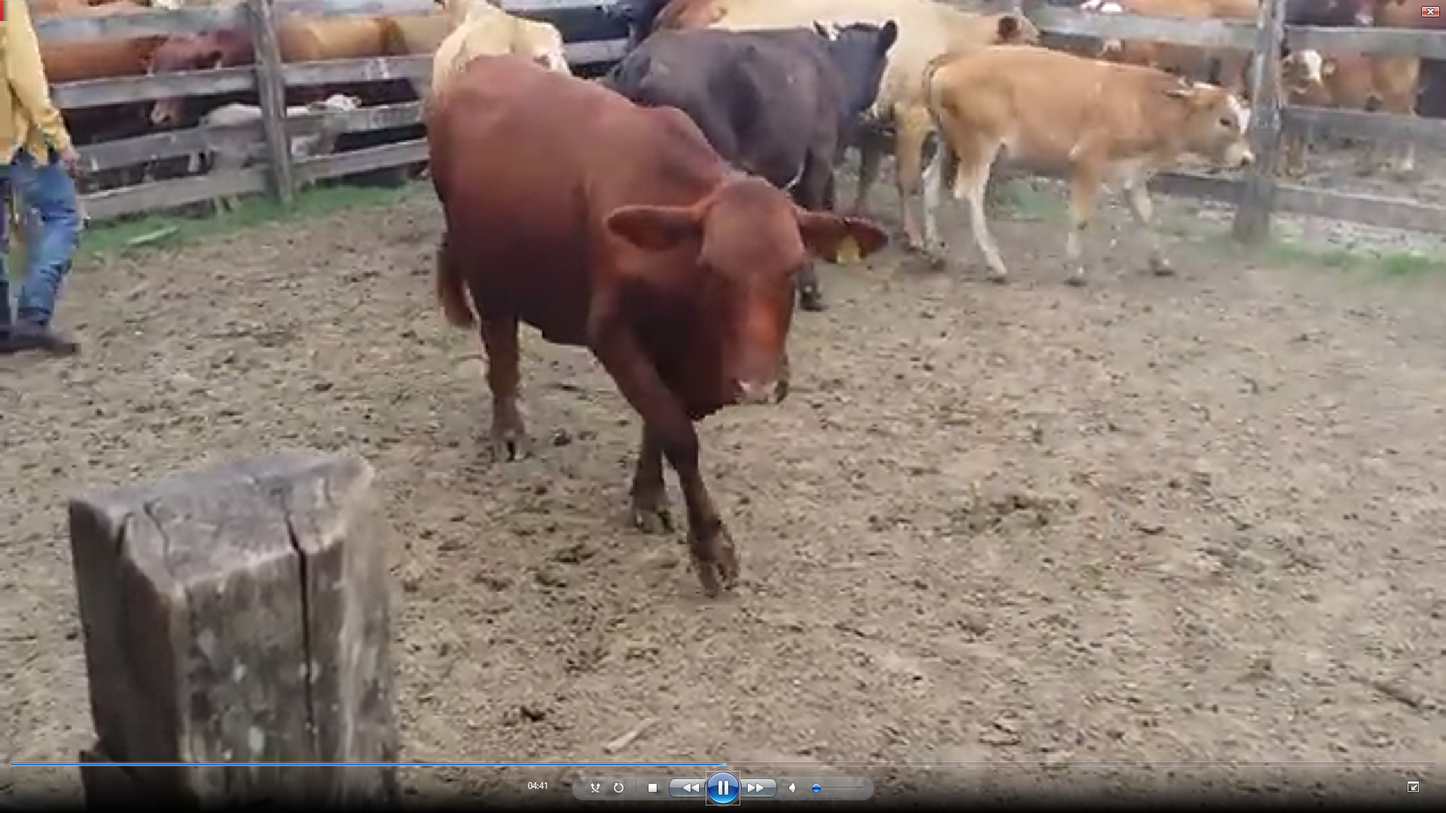bovino: (441, 50, 830, 600), (918, 42, 1255, 289)
